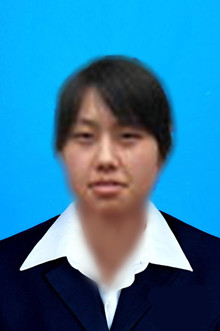unmask: (61, 106, 155, 209)
